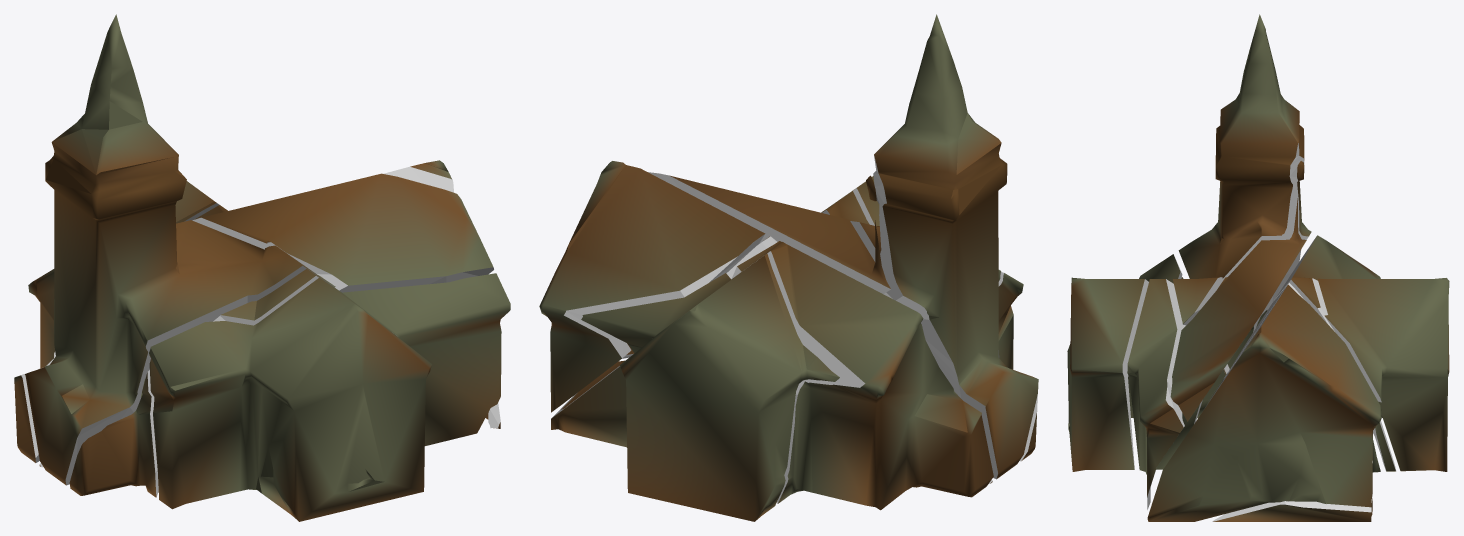
File: Churches(4).glb
3 views of the same model, side by side, from view 1: azimuth 30°, elevation 25°; view 2: azimuth 150°, elevation 25°; view 3: azimuth 270°, elevation 25° (orthographic). The views are drawn at different scales.
Visible parts, largest first — view 1: Root.005, Root.002, Root, Root.007, Root.001, Root.010, Root.006; view 2: Root.006, Root.002, Root.001, Root.010, Root.007, Root.004, Root.005, Root; view 3: Root.010, Root.002, Root.006, Root.005, Root.007, Root, Root.001, Root.004.
Boxes of the visible parts, <box> form: Root.005: <box>149,278,431,521</box>; Root.002: <box>25,14,335,485</box>; Root: <box>69,269,510,497</box>; Root.007: <box>192,173,493,292</box>; Root.001: <box>14,205,227,462</box>; Root.010: <box>383,160,500,428</box>; Root.006: <box>175,181,219,223</box>; Root.006: <box>581,254,839,521</box>; Root.002: <box>821,14,1038,479</box>; Root.001: <box>731,241,993,510</box>; Root.010: <box>539,161,765,412</box>; Root.007: <box>648,172,890,294</box>; Root.004: <box>551,236,777,447</box>; Root.005: <box>871,176,1023,369</box>; Root: <box>835,181,1037,461</box>; Root.010: <box>1147,284,1381,521</box>; Root.002: <box>1173,14,1311,325</box>; Root.006: <box>1317,278,1449,471</box>; Root.005: <box>1067,254,1182,471</box>; Root.007: <box>1170,198,1306,421</box>; Root: <box>1127,277,1229,509</box>; Root.001: <box>1274,235,1396,471</box>; Root.004: <box>1207,283,1380,521</box>.
Size of the model in its own units: 11.08 by 11.78 by 10.83.
